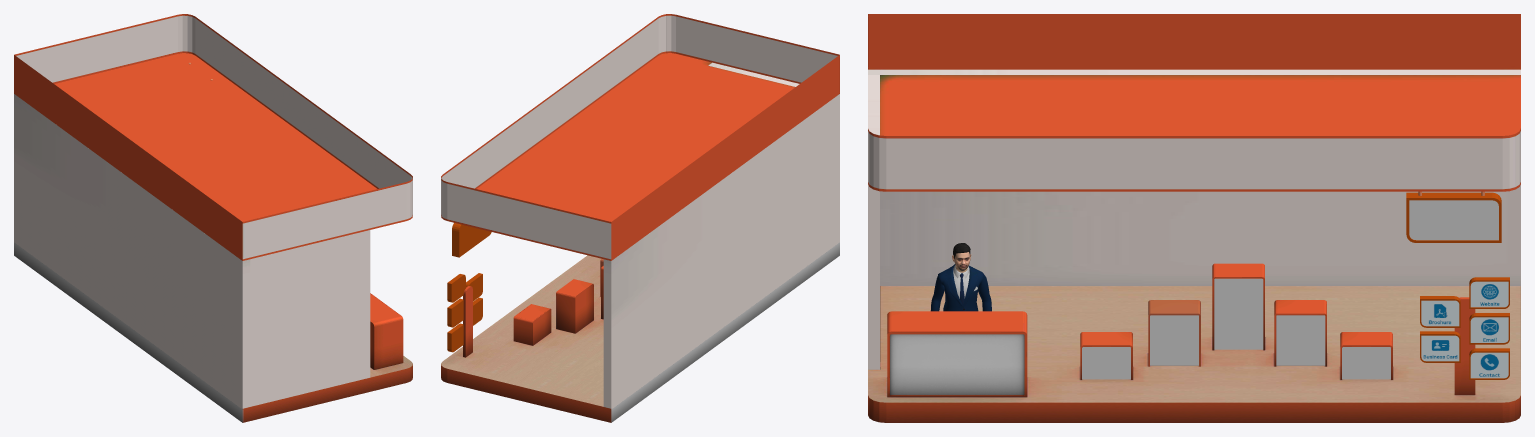
Rendered from stallcompress.glb.
The picture shows the model from 3 angles, left to right: view 1: azimuth 30°, elevation 25°; view 2: azimuth 150°, elevation 25°; view 3: azimuth 270°, elevation 25°; orthographic projection. The views are drawn at different scales.
Visible parts, largest first — view 1: Cube.010, wall, base, desk; view 2: Cube.010, wall, base wood, base, p stand 04, p stand 05, Cube, contact stand 02.001, Cube.011, Cube.002, Cube.009; view 3: Cube.010, wall, base wood, base, desk, Cube, p stand 03, p stand 04, p stand 02, p stand 01, p stand 05, avaturn_look_0 (+6 smaller).
Boxes of the visible parts, <box> form: Cube.010: <box>14,14,412,260</box>; wall: <box>14,94,370,409</box>; base: <box>14,242,412,422</box>; desk: <box>370,293,403,369</box>; Cube.010: <box>441,14,839,260</box>; wall: <box>603,62,839,409</box>; base wood: <box>441,255,603,406</box>; base: <box>441,242,839,422</box>; p stand 04: <box>556,279,593,333</box>; p stand 05: <box>513,304,551,345</box>; Cube: <box>452,223,491,257</box>; contact stand 02.001: <box>463,286,472,357</box>; Cube.011: <box>447,274,465,302</box>; Cube.002: <box>447,323,463,352</box>; Cube.009: <box>447,298,463,327</box>; Cube.010: <box>868,14,1520,191</box>; wall: <box>868,69,1520,369</box>; base wood: <box>868,286,1520,402</box>; base: <box>868,395,1520,422</box>; desk: <box>887,311,1027,397</box>; Cube: <box>1406,192,1501,242</box>; p stand 03: <box>1212,263,1264,350</box>; p stand 04: <box>1274,300,1326,366</box>; p stand 02: <box>1148,300,1200,366</box>; p stand 01: <box>1080,332,1132,379</box>; p stand 05: <box>1340,332,1392,379</box>; avaturn_look_0: <box>930,264,991,311</box>.
Size of the model in its own units: 8.53 by 9.37 by 19.29.
Materials: 32 (19 with a texture image).
